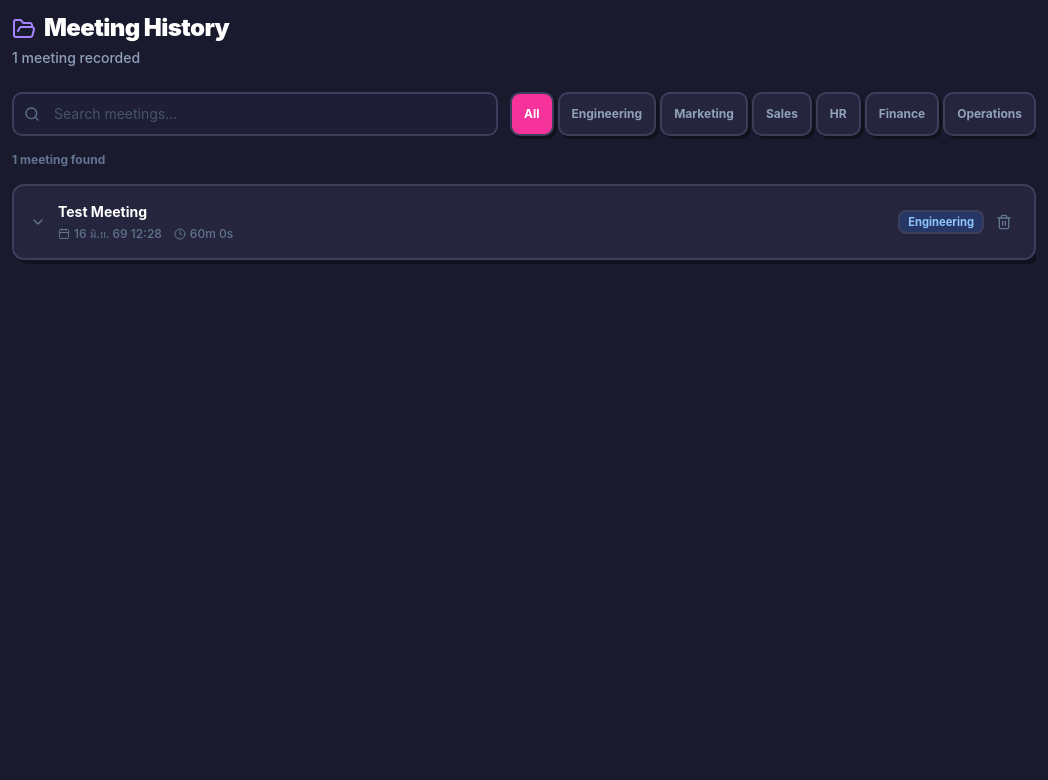
Test: MeetingHistory Component › Meeting Expansion › should collapse meeting when clicked again
Click the button "Test Meeting 16 มิ.ย. 69 12:28 60m 0s" at (103, 212), box [30,202,898,242]
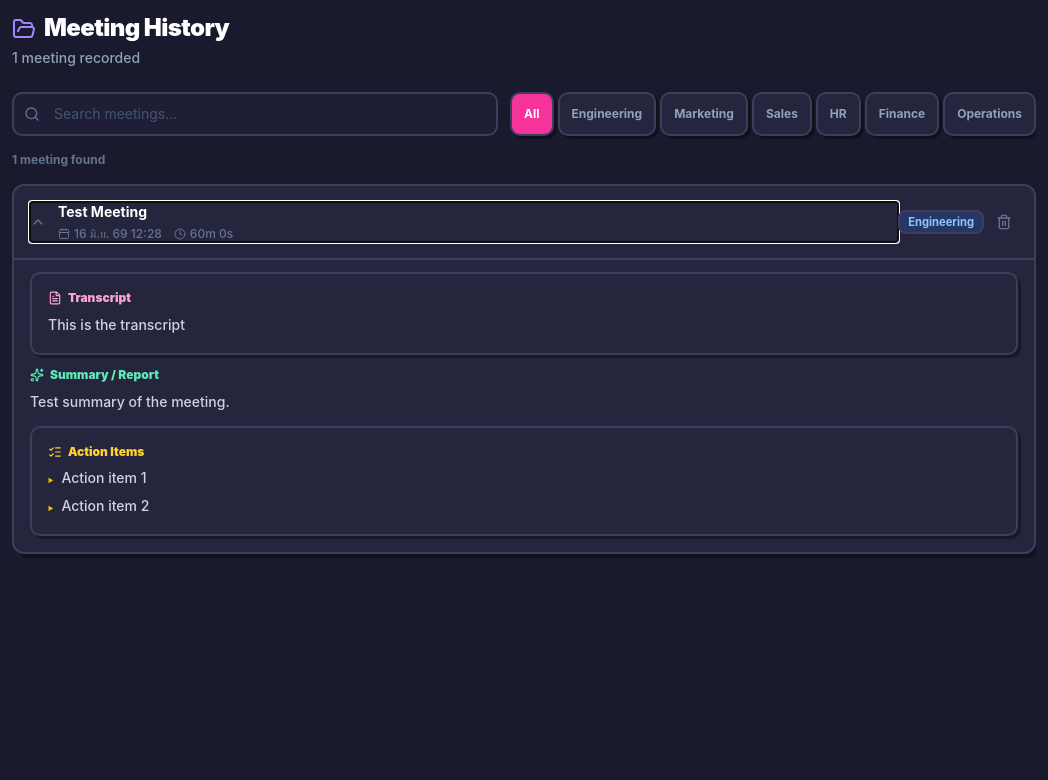
Now the text "This is the transcript" is shown, box [48,316,185,333]
Click the button "Test Meeting 16 มิ.ย. 69 12:28 60m 0s" at (103, 212), box [30,202,898,242]
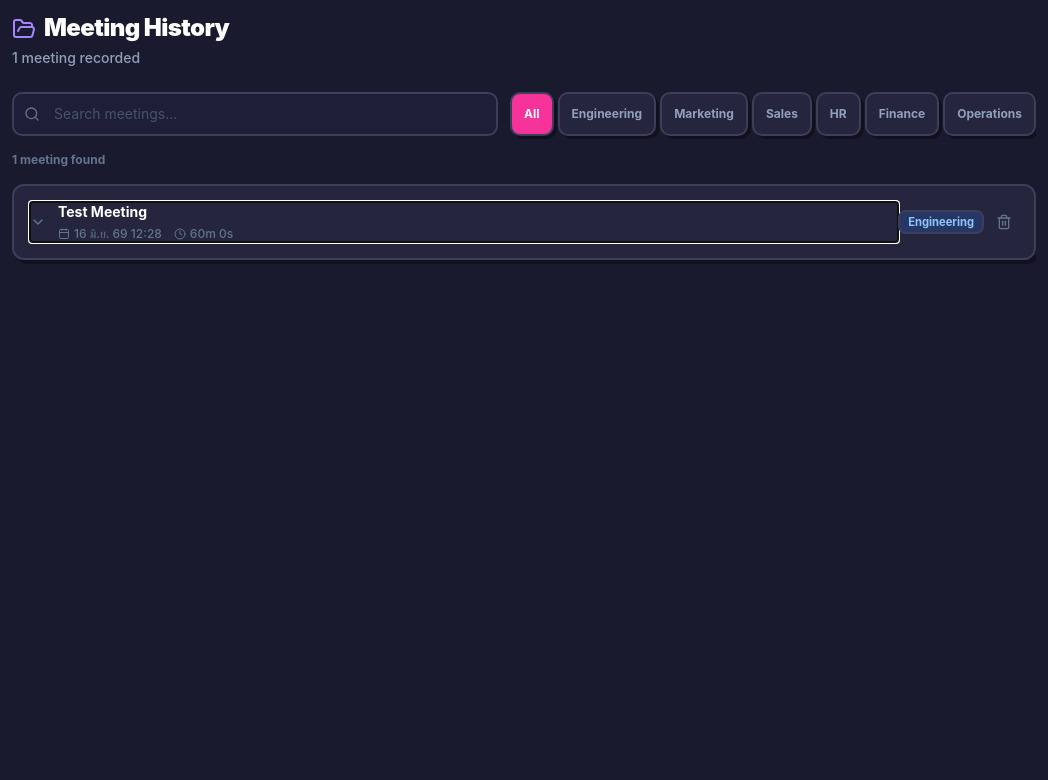
Now the text "This is the transcript" is gone
